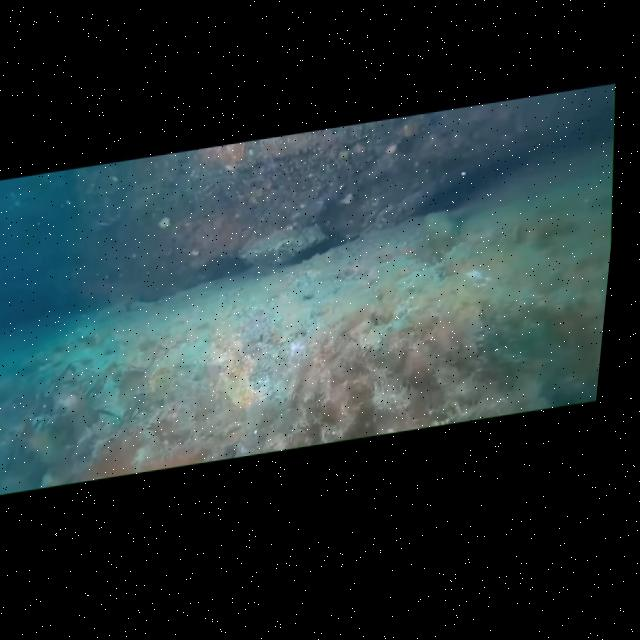Oyster-Closed: (236, 222, 327, 272)
